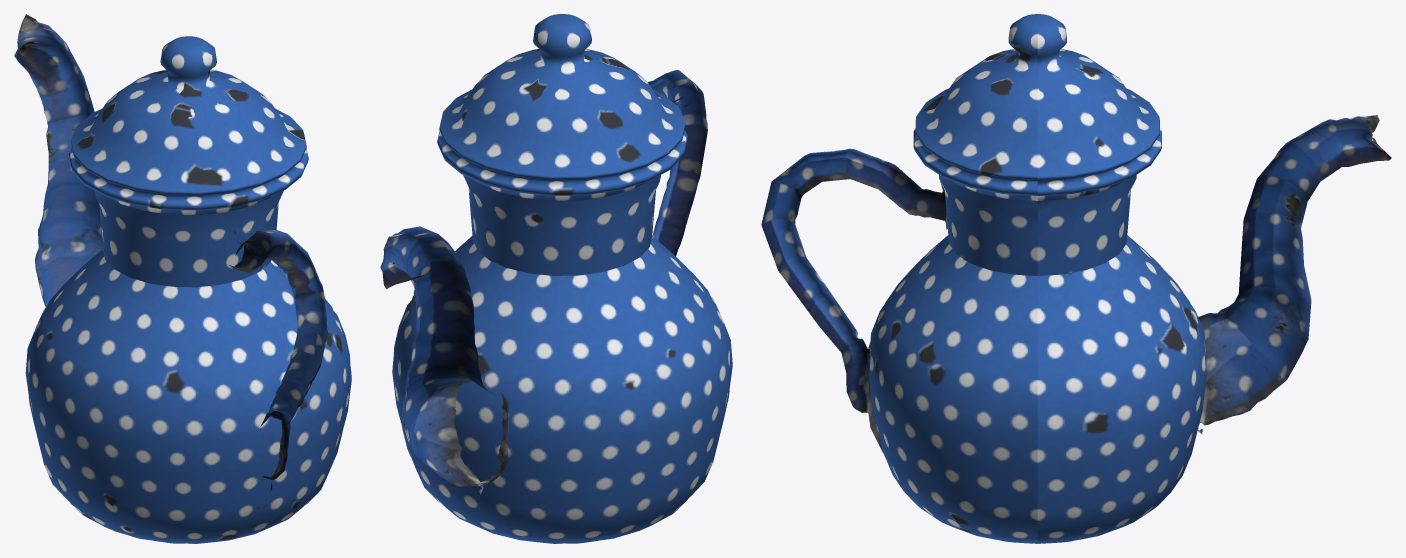
Rendered from theiere.glb.
3 views of the same model, side by side, from view 1: azimuth 30°, elevation 25°; view 2: azimuth 150°, elevation 25°; view 3: azimuth 270°, elevation 25° (orthographic). The views are drawn at different scales.
Visible parts, largest first — view 1: theiere; view 2: theiere; view 3: theiere.
Boxes of the visible parts, left/top/right/bottom form: theiere: left=14, top=14, right=351, bottom=543; theiere: left=380, top=14, right=732, bottom=543; theiere: left=761, top=14, right=1391, bottom=543.
Size of the model in its own units: 0.0909 by 0.1499 by 0.1682.
Materials: 1 (1 with a texture image).
